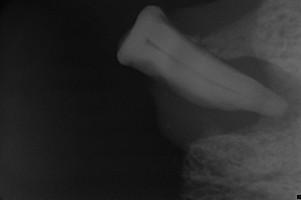Dental Caries: (151, 55, 301, 148)
